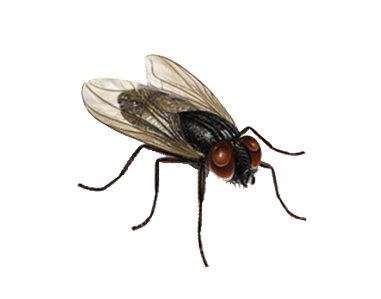fly: (76, 48, 312, 273)
